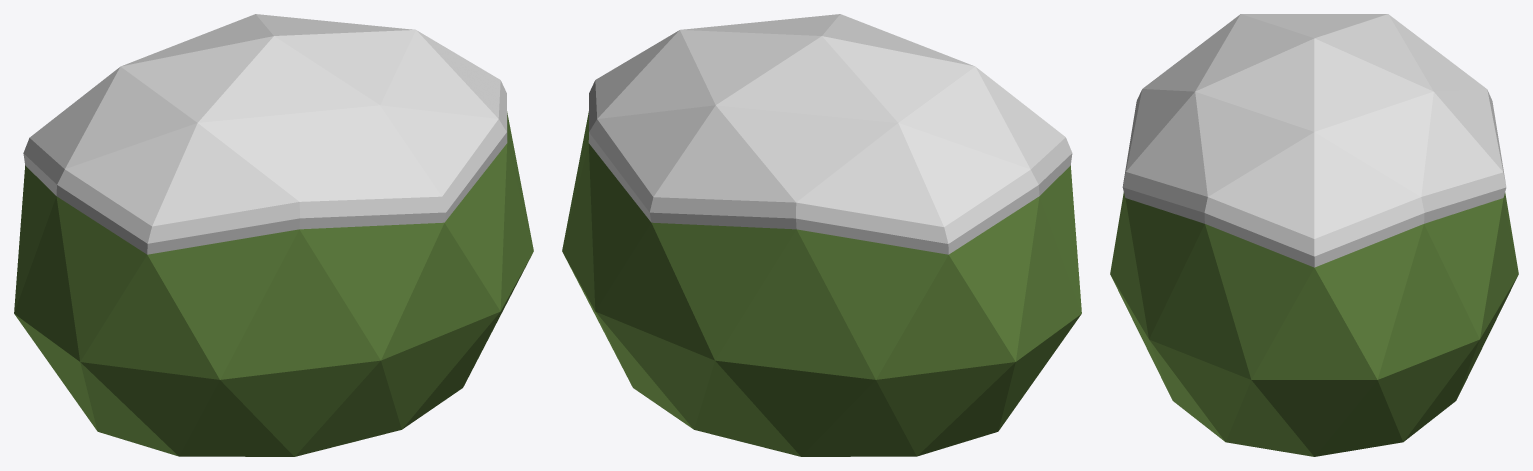
Rendered from Bush01_Snow.fbx.
The picture shows the model from 3 angles, left to right: view 1: azimuth 30°, elevation 25°; view 2: azimuth 150°, elevation 25°; view 3: azimuth 270°, elevation 25°; orthographic projection. The views are drawn at different scales.
Visible parts, largest first — view 1: Bush01_Snow; view 2: Bush01_Snow; view 3: Bush01_Snow.
Part boxes in pixels (x1=…): Bush01_Snow: x1=14, y1=14, x2=533, y2=456; Bush01_Snow: x1=562, y1=14, x2=1081, y2=456; Bush01_Snow: x1=1110, y1=14, x2=1518, y2=456.
Size of the model in its own units: 1.63 by 1.2 by 1.31.
